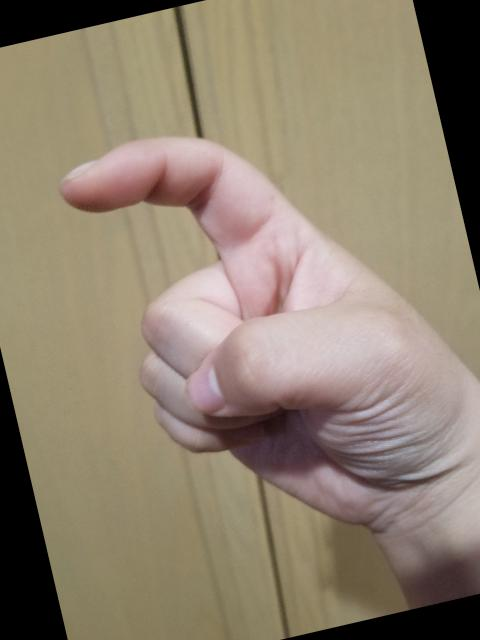X: (44, 66, 480, 584)
